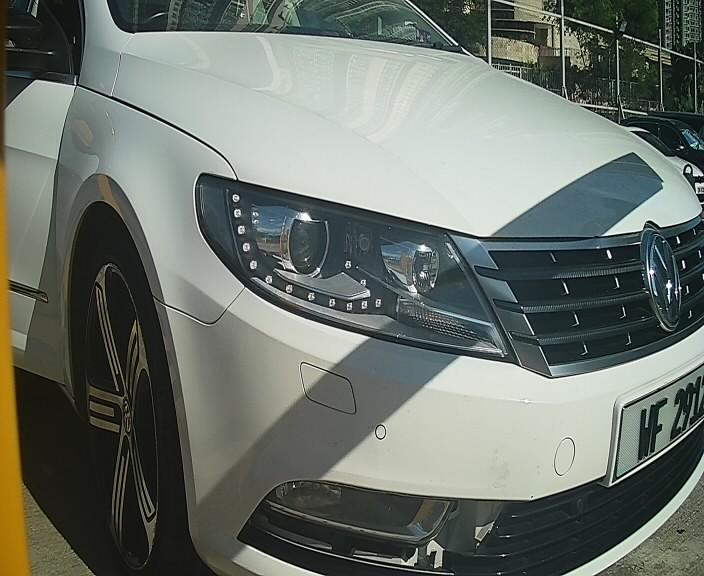License Plate: (585, 356, 704, 499)
